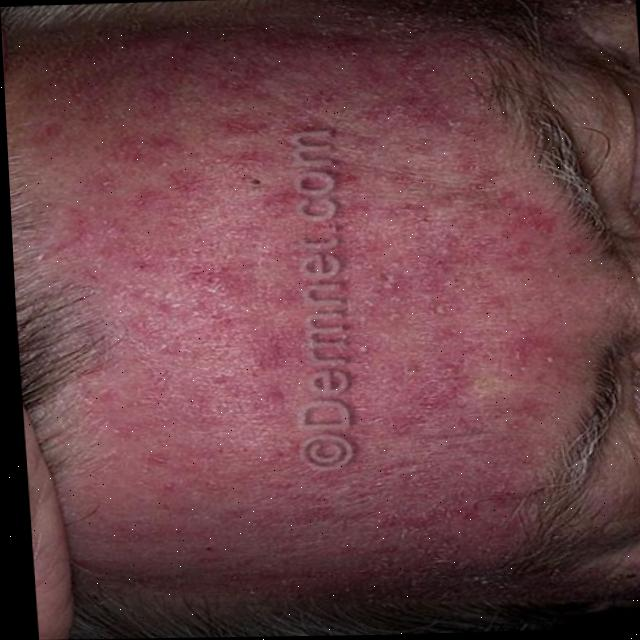Rosacea: (62, 42, 515, 582)
